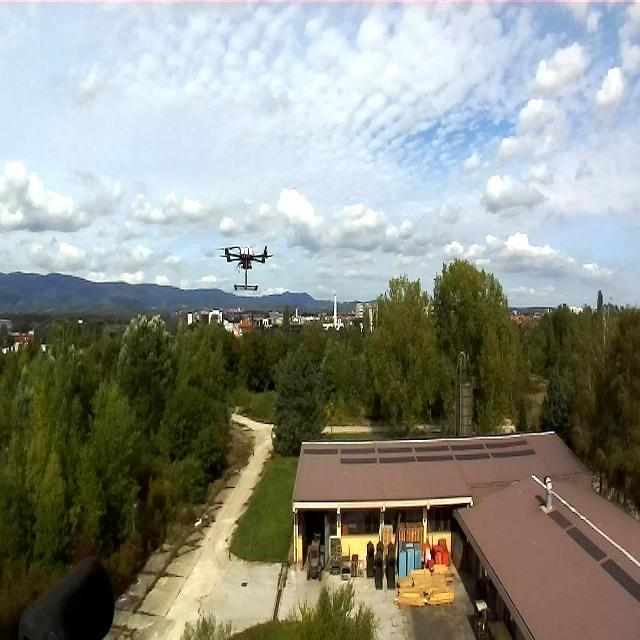drone: (220, 240, 270, 292)
